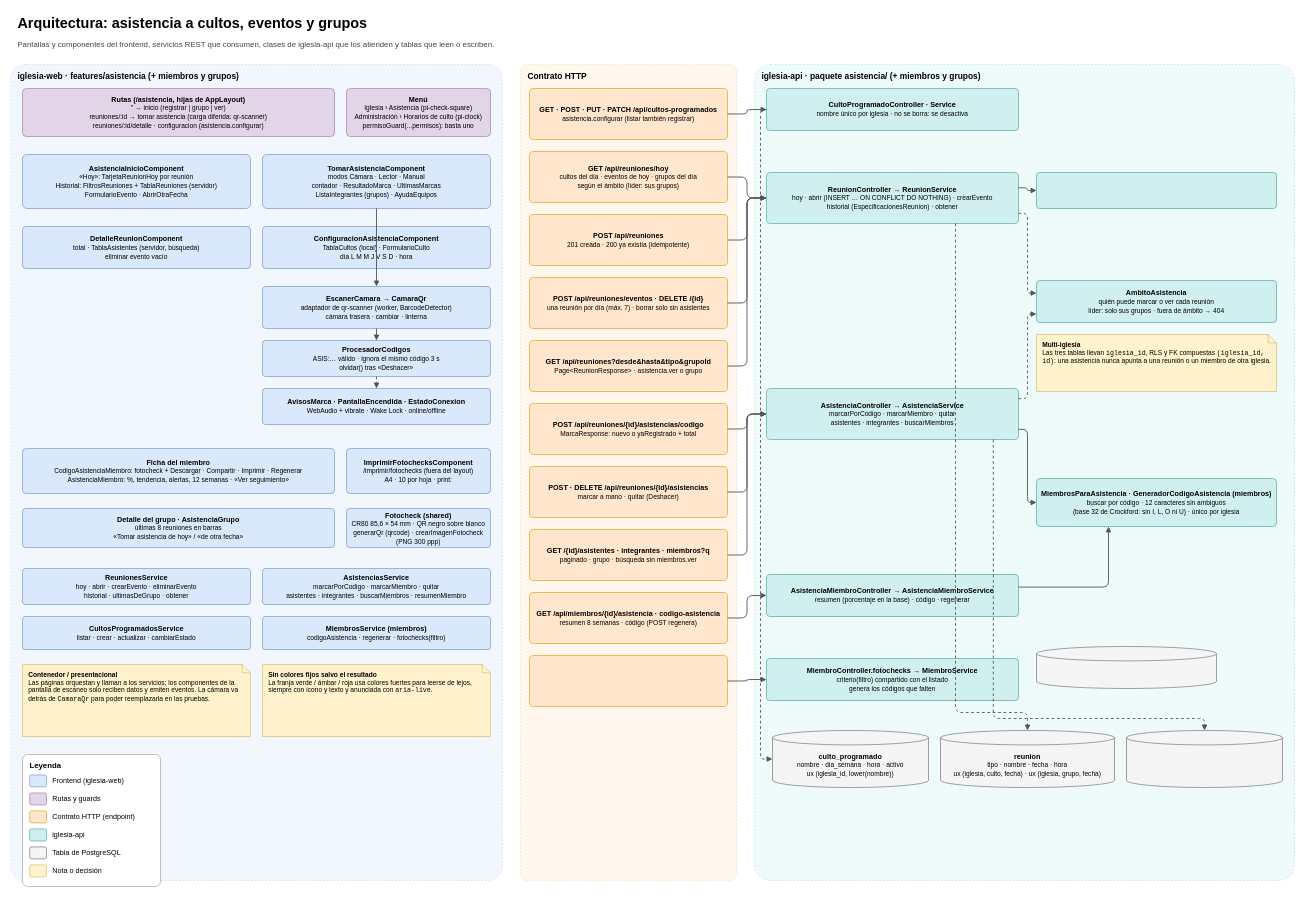
Some shapes in this 1305 by 897 pixel diagram are drawn without their labels. Here are the shapes that lost their labels. From the top down, the centre of each, then its label:
At point (1156, 190): "AgendaGrupos (grupos) grupos que se reúnen un día de la semana".
At point (628, 680): "GET /api/miembros/fotochecks mismos filtros del listado · tope 500".
At point (1126, 667): "miembro.codigo_asistencia ux (iglesia_id, codigo_asistencia)".
At point (1204, 759): "asistencia PK (iglesia, reunion, miembro) medio QR | MANUAL · registrada_por/en".
